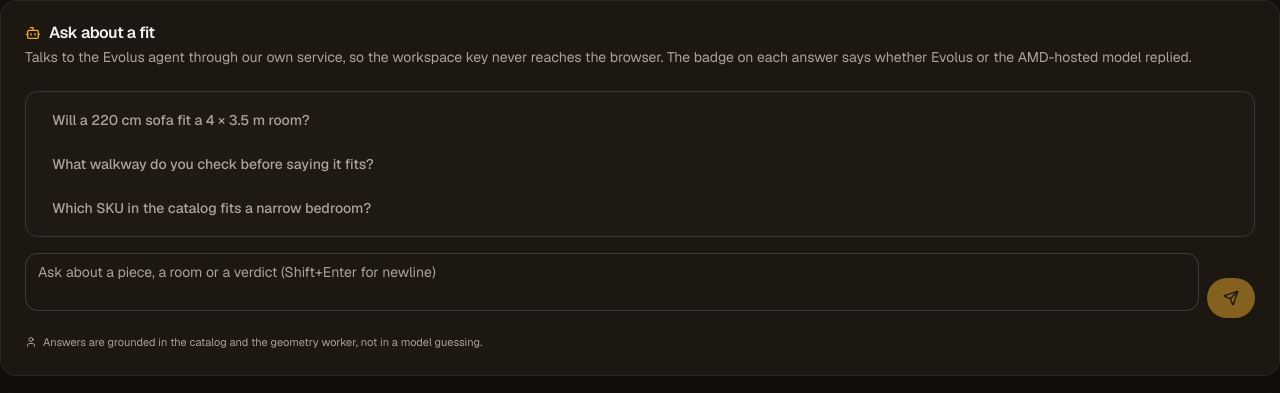
it: AgentChat › keeps the thread and says which brain answered
Click the button "Will a 220 cm sofa fit a 4 × 3.5 m room?". click: (181, 120)
box: [38,104,1242,136]
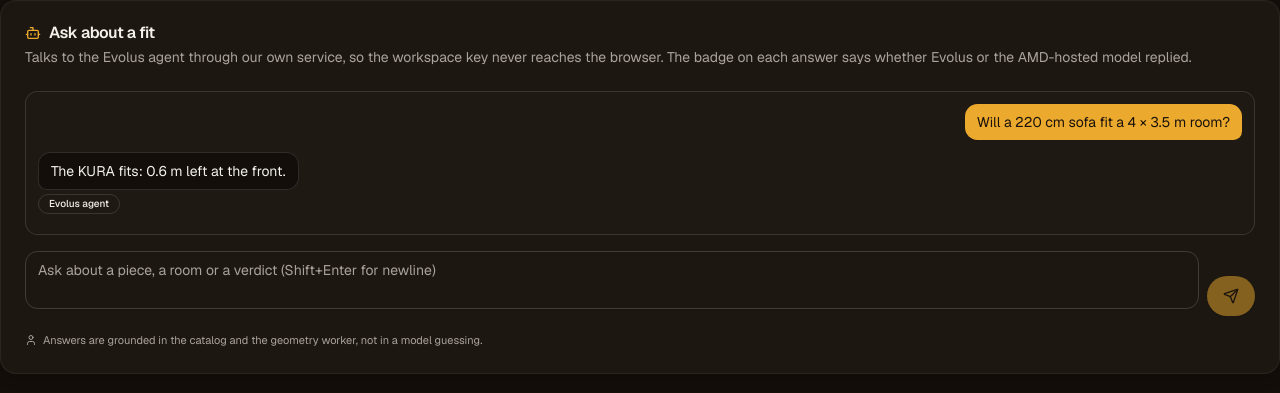
Expected: the text "Will a 220 cm sofa fit a 4 × 3.5 m room?" is shown, [965,104,1242,140]
Expected: the text "The KURA fits: 0.6 m left at the front." is shown, [38,152,299,190]
Expected: the text "Evolus agent" is shown, [38,194,120,214]
